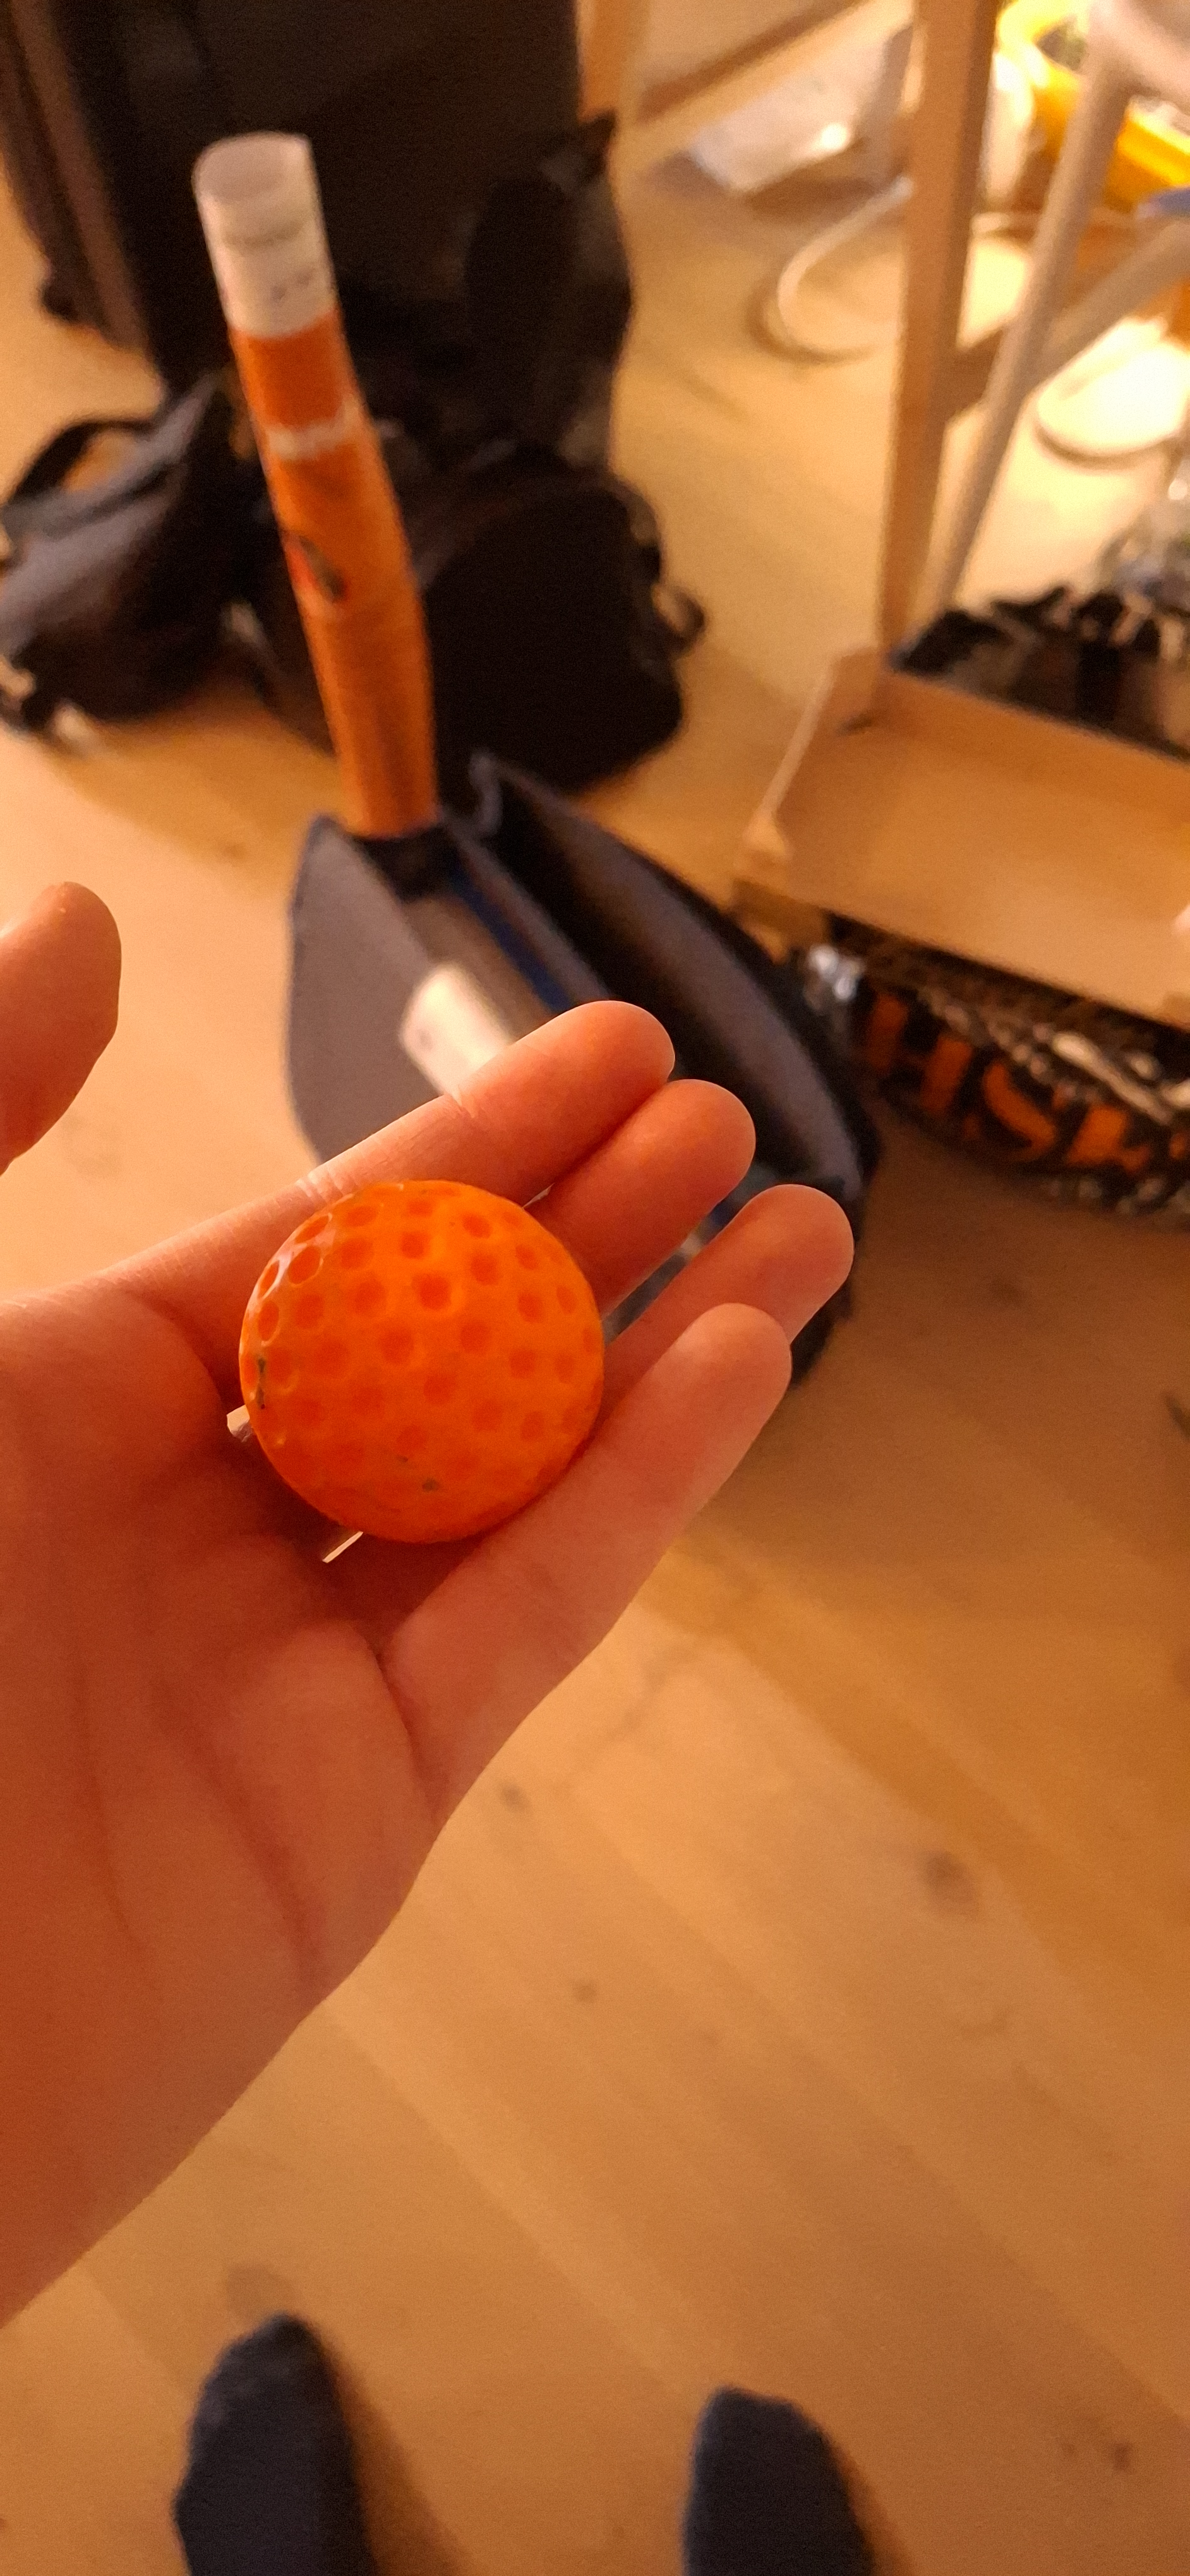ball: (551, 1247, 712, 2073)
